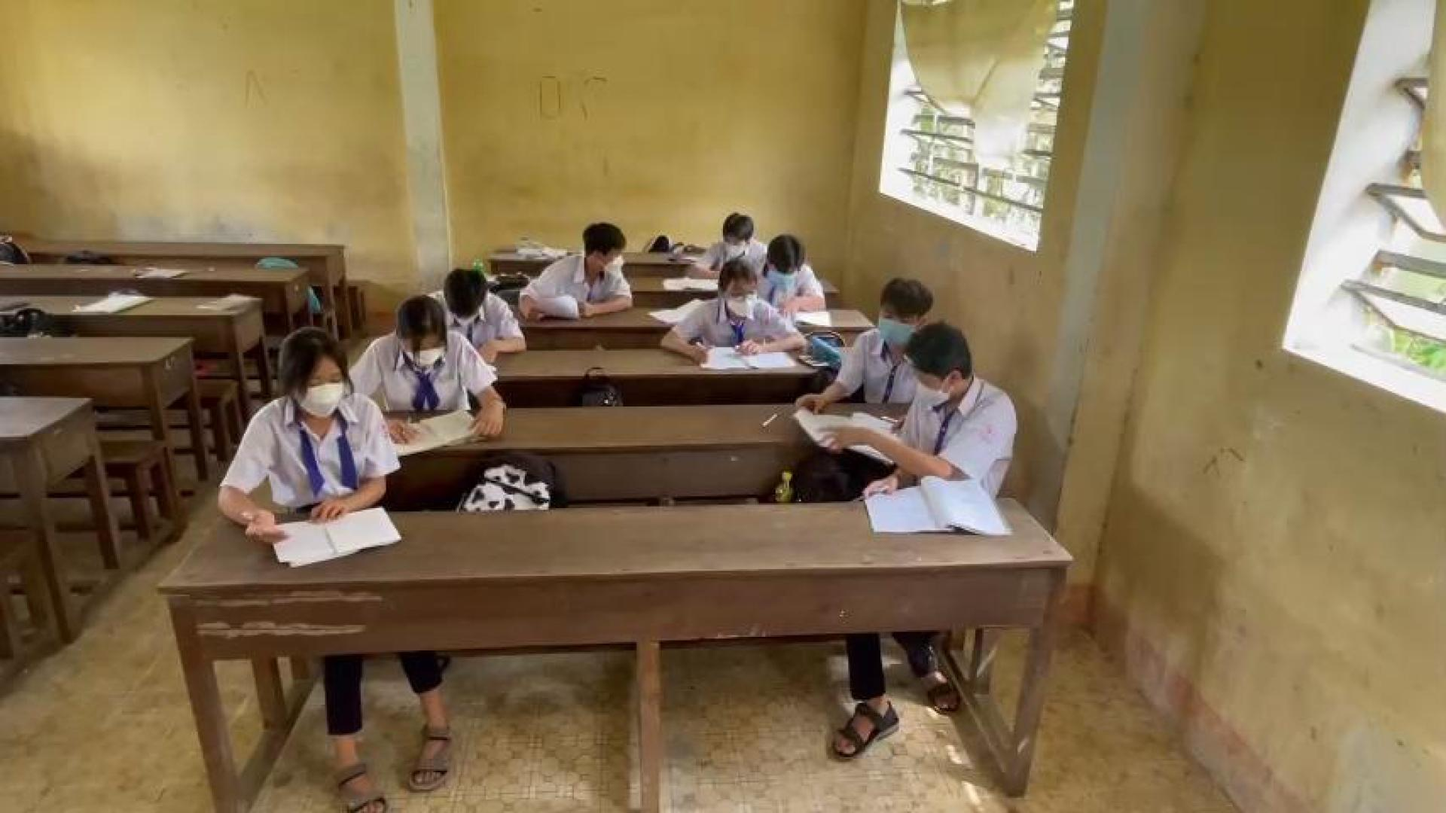Look Around: (887, 315, 980, 411), (567, 208, 630, 279)
Wave: (804, 415, 1012, 483)
